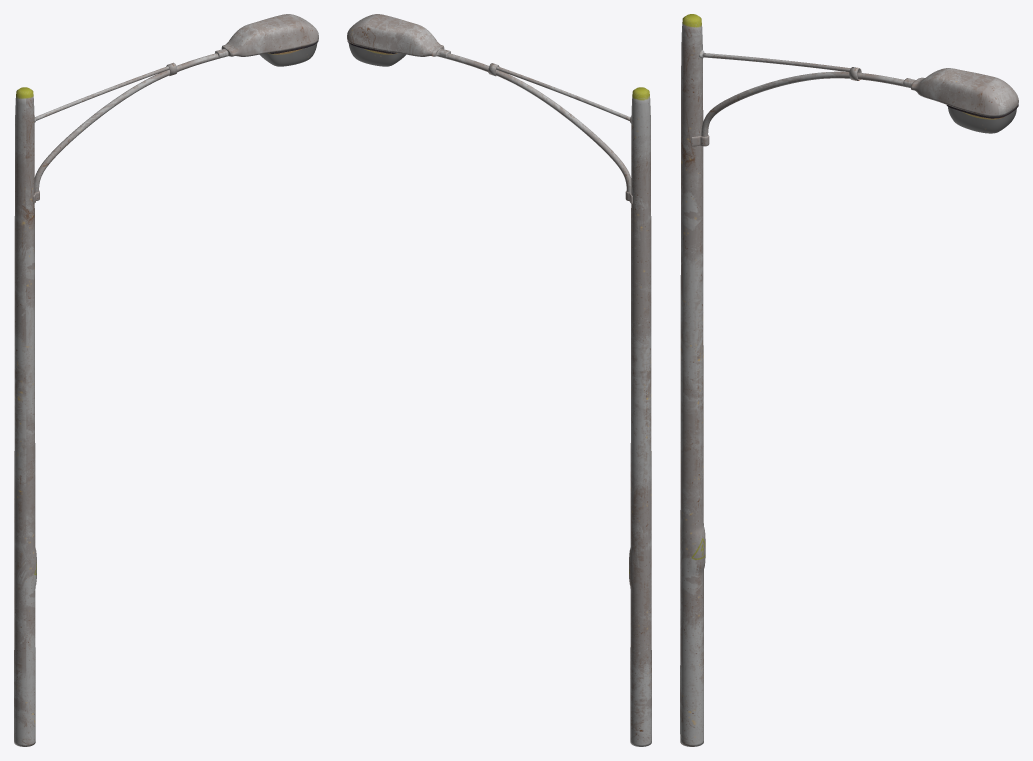
Rendered from rusty-streetlight.glb.
3 renders of one model, left to right at view 1: azimuth 30°, elevation 25°; view 2: azimuth 150°, elevation 25°; view 3: azimuth 330°, elevation 25°, orthographic. The views are drawn at different scales.
Visible parts, largest first — view 1: Street_Light; view 2: Street_Light; view 3: Street_Light.
Part boxes in pixels (x1=…): Street_Light: x1=14, y1=14, x2=318, y2=746; Street_Light: x1=347, y1=14, x2=651, y2=746; Street_Light: x1=680, y1=14, x2=1018, y2=746.
Bounding box in the file's own units: 4.36 × 9.2 × 0.5872.
Materials: 1 (1 with a texture image).
